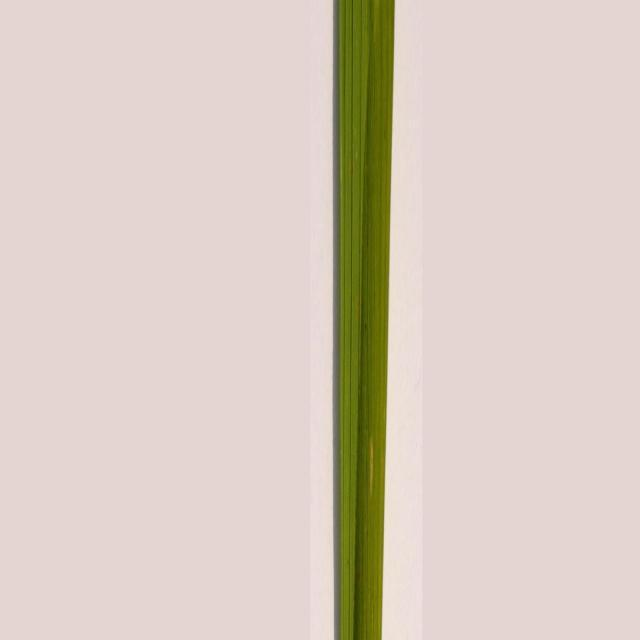leaf blight: (354, 426, 387, 496)
